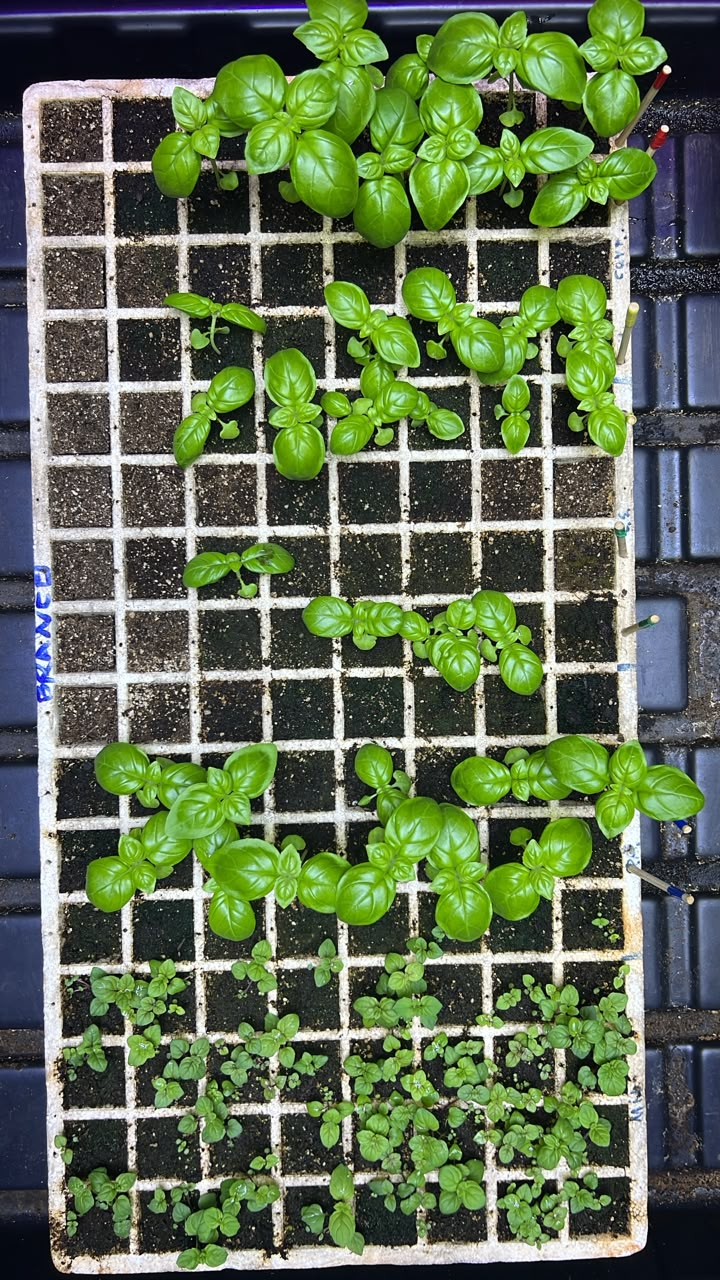Folha: (484, 1078, 617, 1176), (86, 956, 187, 1068), (351, 934, 445, 1035), (170, 364, 257, 468), (300, 587, 416, 664), (181, 538, 294, 598), (161, 288, 268, 350), (299, 1161, 365, 1254), (82, 864, 186, 916), (65, 1165, 137, 1238), (174, 298, 266, 334), (150, 131, 199, 197), (496, 972, 580, 1007), (229, 938, 277, 994), (61, 1023, 108, 1073), (591, 1037, 630, 1096), (520, 973, 580, 1000), (317, 937, 343, 973), (254, 967, 276, 993), (250, 937, 273, 960), (292, 1051, 314, 1074), (527, 1223, 550, 1243), (495, 991, 519, 1010), (53, 1134, 69, 1161), (218, 170, 239, 190), (346, 337, 366, 357), (220, 419, 240, 439), (443, 1067, 463, 1087), (178, 1249, 198, 1268), (447, 1106, 464, 1127), (258, 1153, 279, 1169), (527, 1038, 545, 1056), (382, 1034, 400, 1051), (592, 1194, 611, 1210), (306, 1100, 323, 1117), (582, 1172, 599, 1188), (312, 1053, 328, 1069), (513, 1031, 528, 1047), (250, 1155, 265, 1170), (623, 1039, 637, 1054), (170, 1186, 183, 1201), (331, 958, 343, 974), (61, 1148, 73, 1164), (492, 1015, 504, 1028), (474, 1014, 487, 1025), (527, 1025, 538, 1038), (263, 1087, 274, 1099), (619, 964, 630, 975), (599, 917, 609, 925), (526, 1235, 534, 1243)
Germinacao: (63, 1117, 286, 1275), (161, 290, 268, 475), (411, 588, 552, 694), (479, 1075, 622, 1179), (82, 952, 191, 1072), (150, 75, 246, 197), (348, 930, 448, 1039), (294, 864, 414, 930), (180, 538, 295, 599), (297, 1158, 367, 1257), (474, 987, 542, 1029), (62, 1023, 109, 1074), (494, 972, 581, 999), (504, 1023, 543, 1068), (313, 937, 344, 986), (292, 1048, 329, 1089), (606, 964, 631, 999), (53, 1135, 73, 1164), (445, 1106, 467, 1127)
